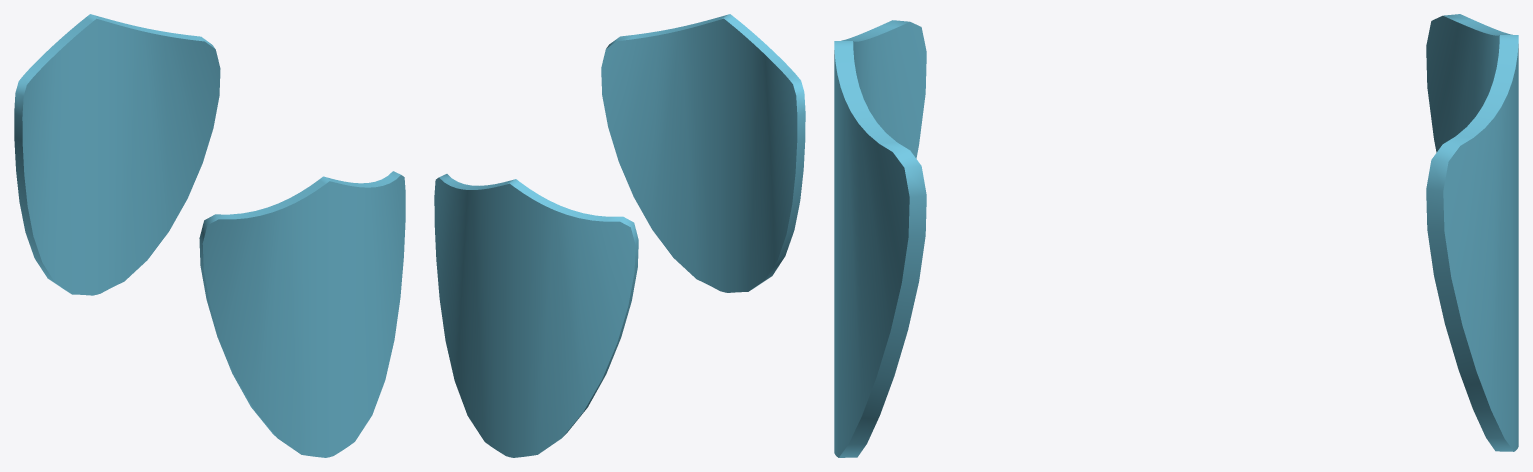
Rendered from Armor2.FBX.
3 renders of one model, left to right at view 1: azimuth 30°, elevation 25°; view 2: azimuth 150°, elevation 25°; view 3: azimuth 270°, elevation 25°, orthographic. The views are drawn at different scales.
Visible parts, largest first — view 1: Armor2; view 2: Armor2; view 3: Armor2.
Boxes of the visible parts, x1,y1,x2,y2 form: Armor2: [14, 14, 405, 457]; Armor2: [434, 14, 805, 457]; Armor2: [834, 14, 1518, 457].
Size of the model in its own units: 0.9004 by 1.12 by 1.7.
